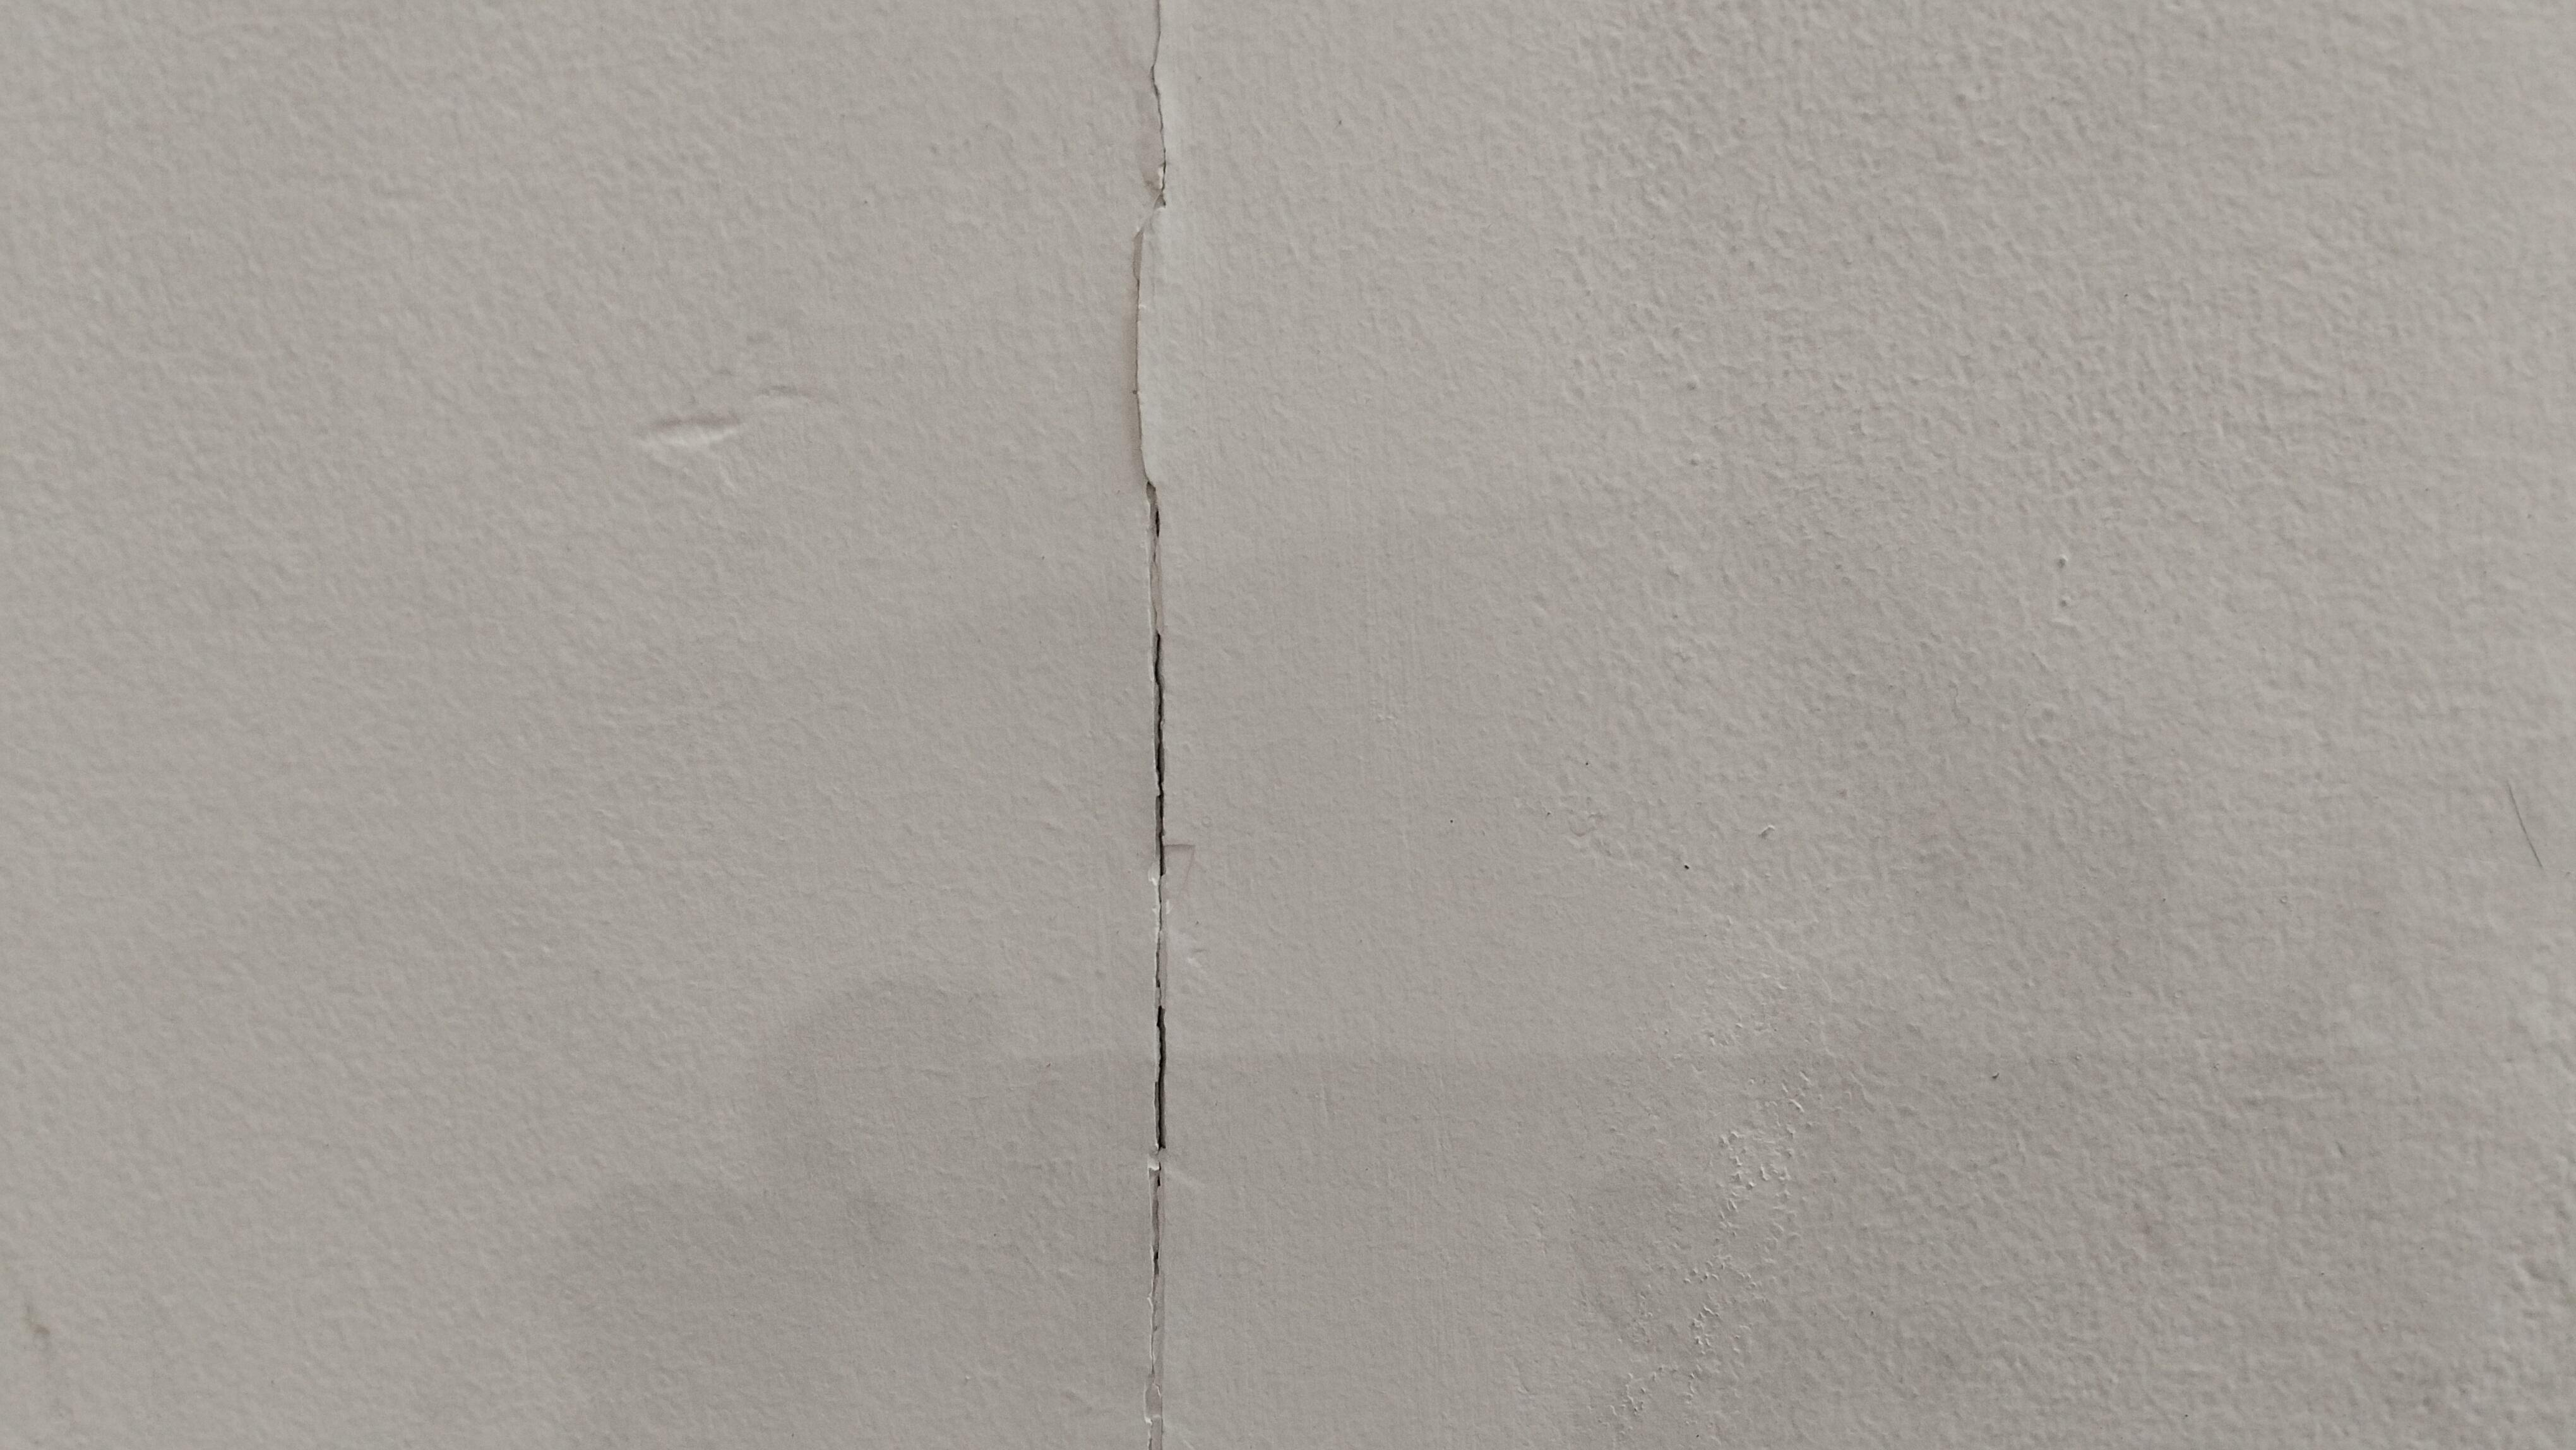Crack: (1086, 467, 1207, 1354), (1108, 19, 1200, 395)
